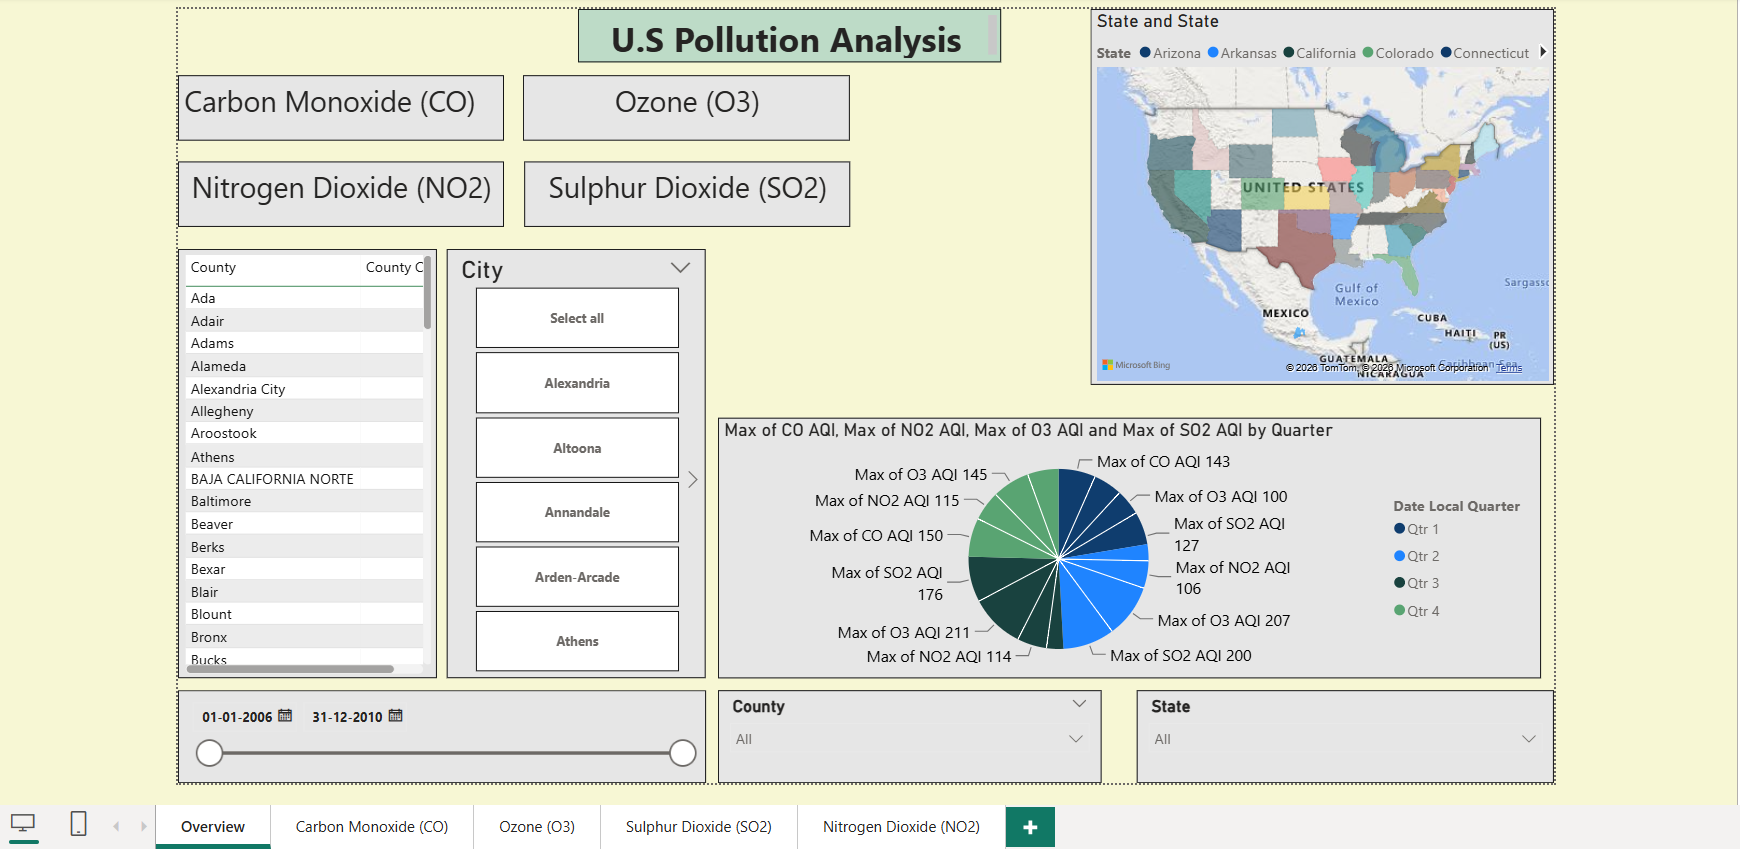

This screenshot's page, from the dashboard's own definition file:
{"tool":"powerbi","page":{"name":"Overview","canvas":[1280,720],"ordinal":0},"visuals":[{"type":"textbox","box":[0,141.8,302.9,60.6],"z":0},{"type":"textbox","box":[0,61.9,302.9,60.6],"z":1000},{"type":"textbox","box":[322.1,141.8,302.9,60.6],"z":2000},{"type":"textbox","box":[320.8,61.9,304.2,60.6],"z":3000},{"type":"textbox","box":[371.7,0,393.7,49.6],"z":4000},{"type":"slicer","fields":{"Values":["US Pollution 2006-2010.City"]},"box":[250.5,223,240.9,399.2],"z":5000},{"type":"slicer","fields":{"Values":["US Pollution 2006-2010.Date Local"]},"box":[0,633.3,491.5,86.7],"z":6000},{"type":"filledMap","fields":{"Category":["US Pollution 2006-2010.State"],"Series":["US Pollution 2006-2010.State"]},"box":[849.4,0,430.9,349.7],"z":7000},{"type":"tableEx","fields":{"Values":["US Pollution 2006-2010.County","US Pollution 2006-2010.County Code"]},"box":[0,223,240.9,399.2],"z":8000},{"type":"pieChart","fields":{"Category":["US Pollution 2006-2010.Date Local.Variation.Date Hierarchy.Quarter"],"Y":["Max(US Pollution 2006-2010.CO AQI)","Max(US Pollution 2006-2010.NO2 AQI)","Max(US Pollution 2006-2010.O3 AQI)","Max(US Pollution 2006-2010.SO2 AQI)"]},"box":[502.5,380,765.4,242.3],"z":9000},{"type":"slicer","fields":{"Values":["US Pollution 2006-2010.County"]},"box":[502.5,633.3,356.6,86.7],"z":10000},{"type":"slicer","fields":{"Values":["US Pollution 2006-2010.State"]},"box":[892.1,633.3,388.2,86.7],"z":11000}]}

Visuals, with their boxes on the page's 1280x720 design canvas (x1, y1, x2, y2). These are canvas units, not pixel positions in the 1740x849 screenshot, which may show the page scaled, cropped or inside an application window:
textbox: Rect(0, 142, 303, 202)
textbox: Rect(0, 62, 303, 122)
textbox: Rect(322, 142, 625, 202)
textbox: Rect(321, 62, 625, 122)
textbox: Rect(372, 0, 765, 50)
slicer - US Pollution 2006-2010.City: Rect(250, 223, 491, 622)
slicer - US Pollution 2006-2010.Date Local: Rect(0, 633, 492, 720)
filledMap - US Pollution 2006-2010.State x US Pollution 2006-2010.State: Rect(849, 0, 1280, 350)
tableEx - US Pollution 2006-2010.County x US Pollution 2006-2010.County Code: Rect(0, 223, 241, 622)
pieChart - US Pollution 2006-2010.Date Local.Variation.Date Hierarchy.Quarter x Max(US Pollution 2006-2010.CO AQI): Rect(502, 380, 1268, 622)
slicer - US Pollution 2006-2010.County: Rect(502, 633, 859, 720)
slicer - US Pollution 2006-2010.State: Rect(892, 633, 1280, 720)
